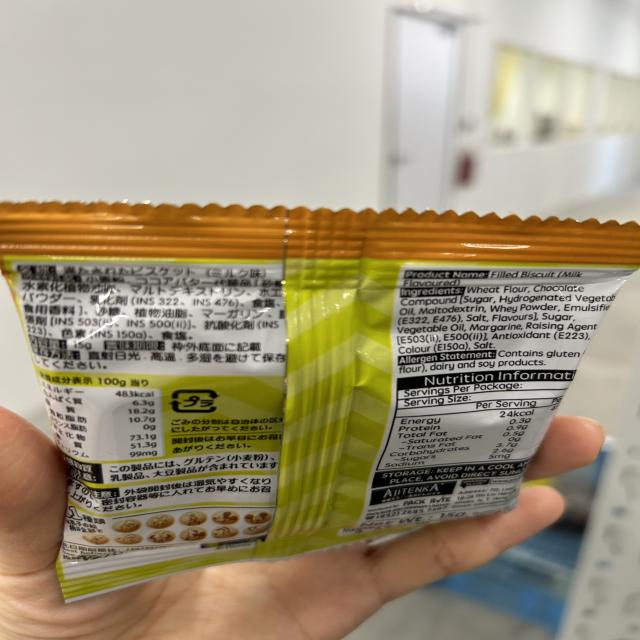object_name: (34, 213, 518, 521)
